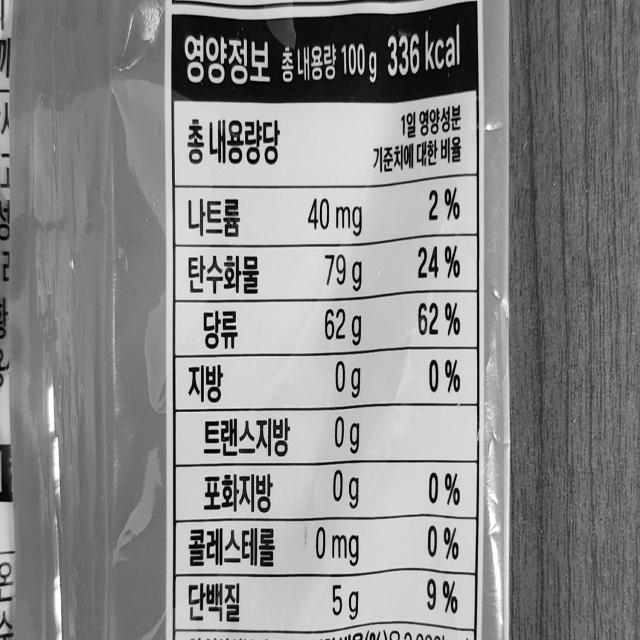Nutrition Label: (167, 10, 486, 635)
